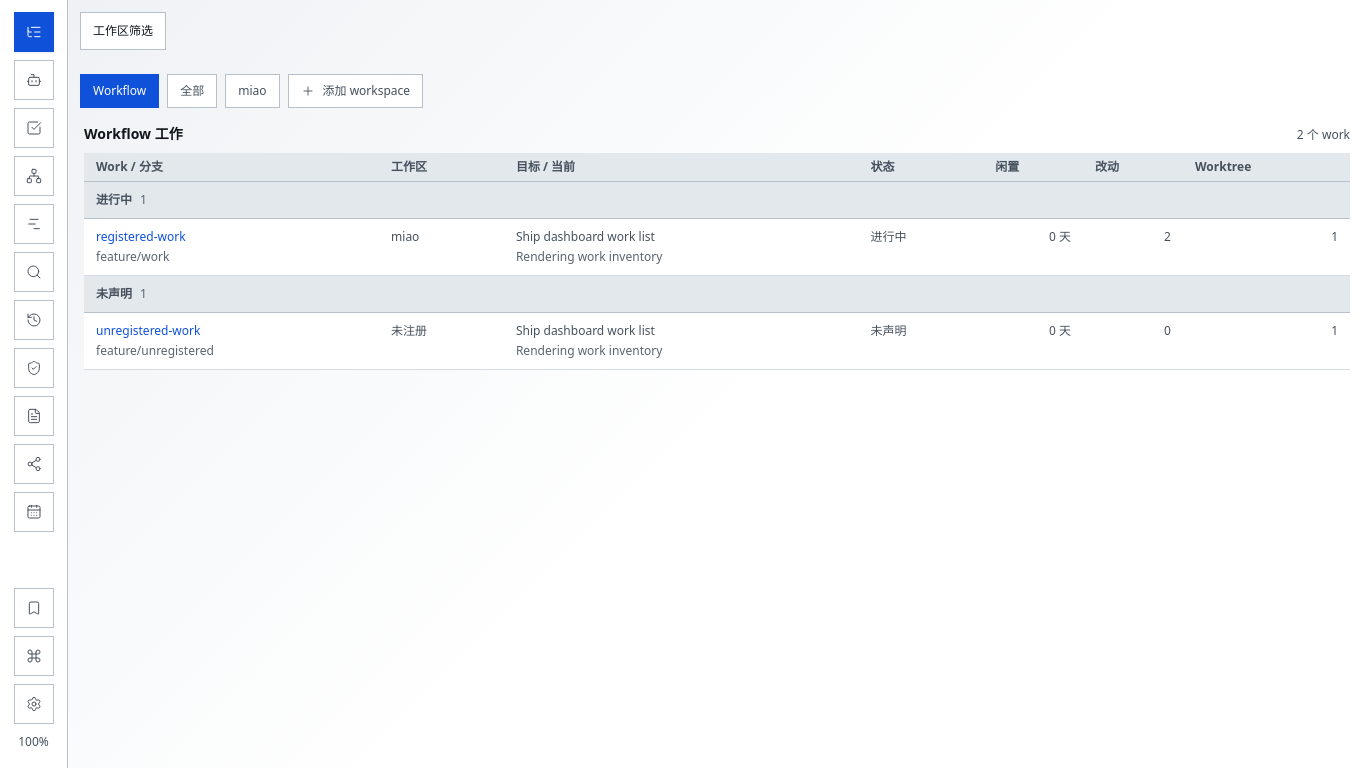
App › opens Workflow by default and returns to the workspace changes view
The width and height of the screenshot is (1366, 768).
Expected: the button "registered-work" is shown, 96,226 -> 186,246
Expected: the element "Workflow 工作" is shown, 84,124 -> 1350,370
Click the button "miao".
click(252, 91)  # box 225,74 -> 280,108
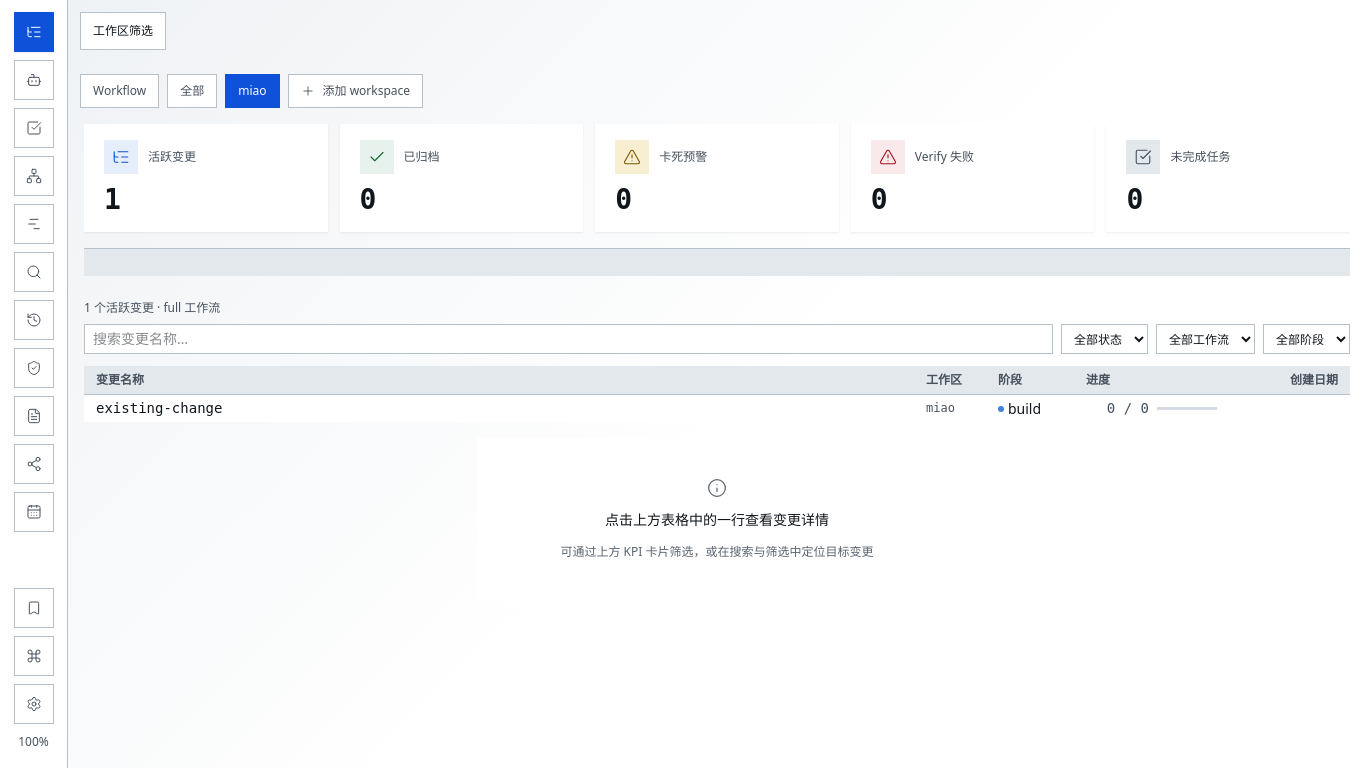
Now the text "existing-change" is shown, box 84,394 -> 914,422
Now the button "registered-work" is gone
